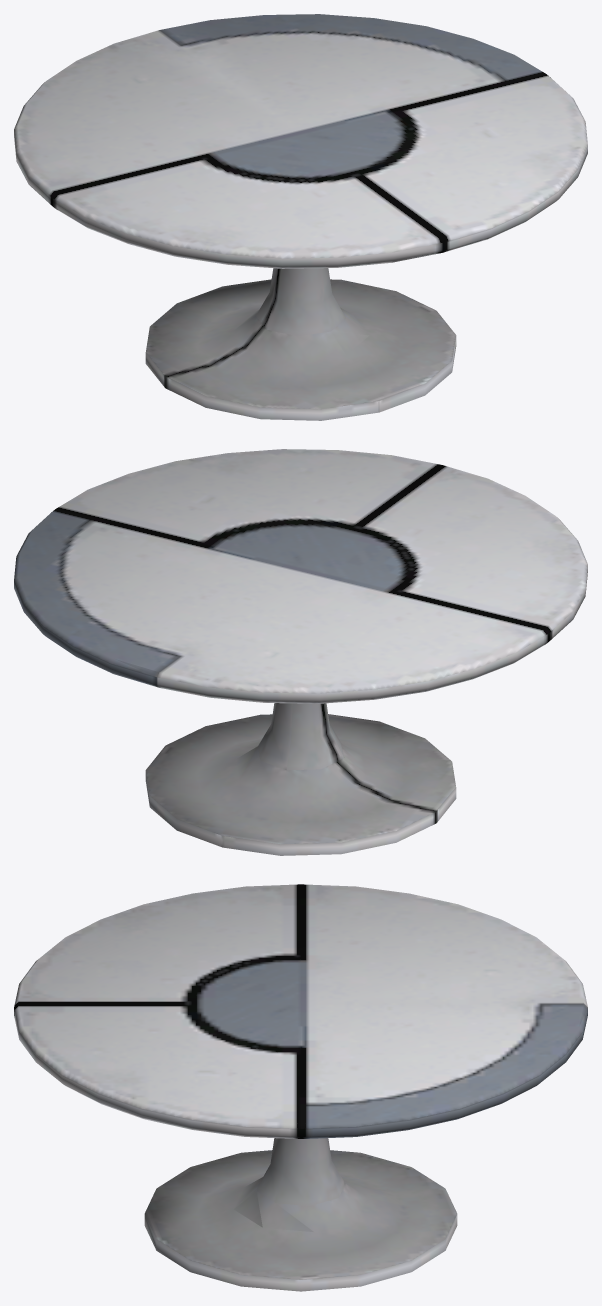
The model's file is Bar_Table_02.FBX.
3 views of the same model, one above another, from view 1: azimuth 30°, elevation 25°; view 2: azimuth 150°, elevation 25°; view 3: azimuth 270°, elevation 25° (orthographic).
Parts seen in each view (by area): view 1: Bar_Table_02; view 2: Bar_Table_02; view 3: Bar_Table_02.
Boxes of the visible parts, x1,y1,x2,y2 form: Bar_Table_02: (14,14,587,420); Bar_Table_02: (14,449,587,855); Bar_Table_02: (14,884,587,1291).
Size of the model in its own units: 1.76 by 0.75 by 1.76.
